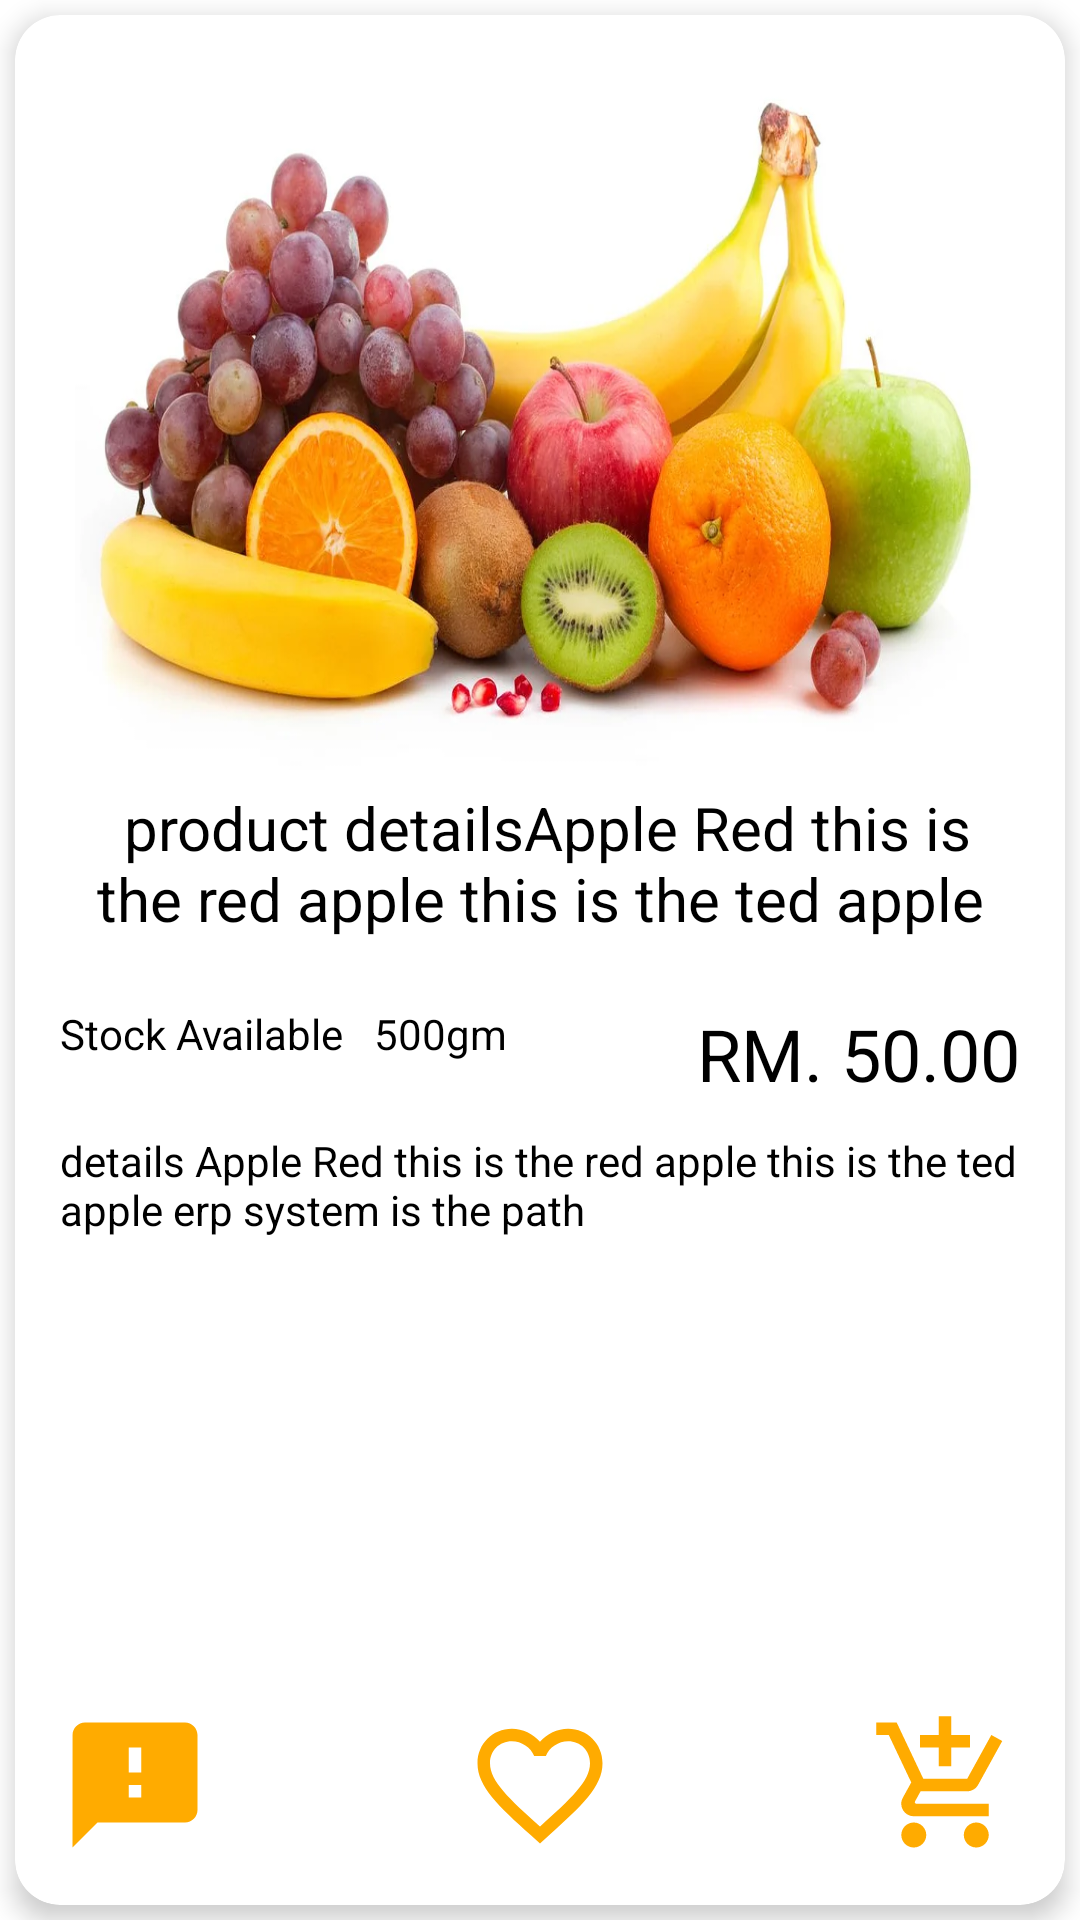

Screen size 1080w x 1920h. Icon name, then its box in pixels as (x1, y1, x2, y2):
add shopping cart: (876, 1716, 1002, 1848)
favorite botton: (477, 1728, 603, 1844)
feedback: (72, 1722, 198, 1848)
